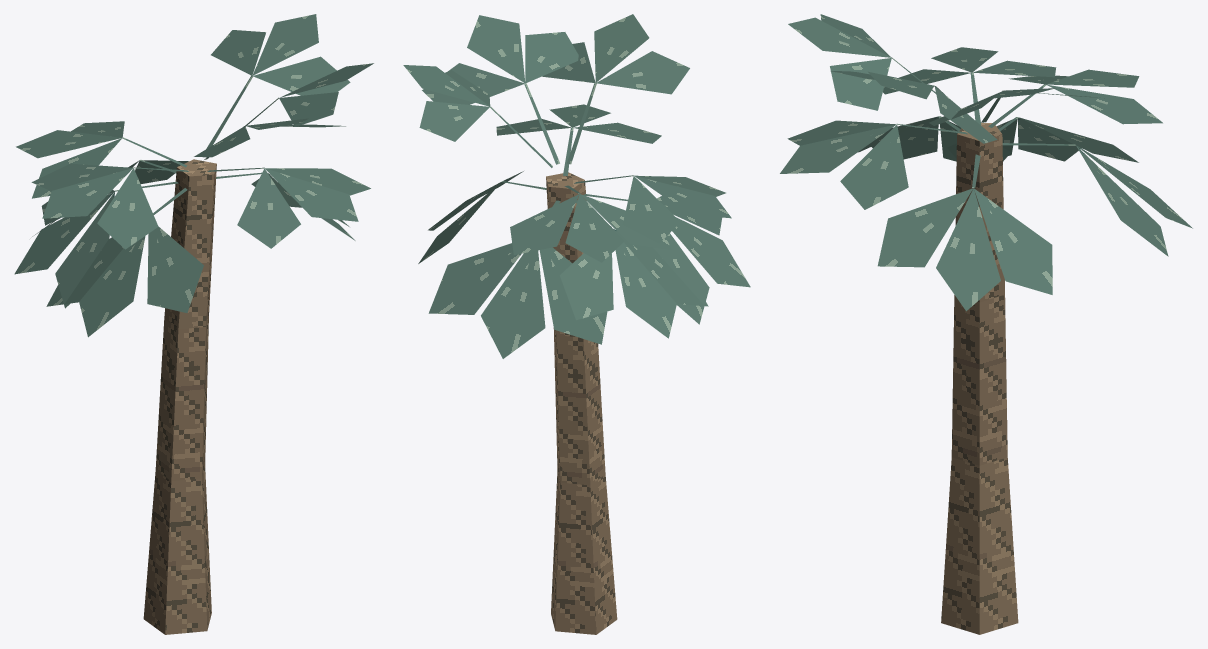
File: sabal-mid.glb
3 views of the same model, side by side, from view 1: azimuth 30°, elevation 25°; view 2: azimuth 150°, elevation 25°; view 3: azimuth 270°, elevation 25° (orthographic). The views are drawn at different scales.
Parts seen in each view (by area): view 1: crown_sabal-mid, trunk_sabal-mid; view 2: crown_sabal-mid, trunk_sabal-mid; view 3: crown_sabal-mid, trunk_sabal-mid.
Boxes of the visible parts, x1=… form: crown_sabal-mid: x1=14, y1=14, x2=373, y2=337; trunk_sabal-mid: x1=143, y1=159, x2=216, y2=634; crown_sabal-mid: x1=403, y1=14, x2=750, y2=358; trunk_sabal-mid: x1=546, y1=172, x2=617, y2=634; crown_sabal-mid: x1=780, y1=14, x2=1192, y2=311; trunk_sabal-mid: x1=941, y1=123, x2=1018, y2=634.
Bounding box in the file's own units: 5.3 × 9.02 × 5.52.
2 materials, 2 textured.
